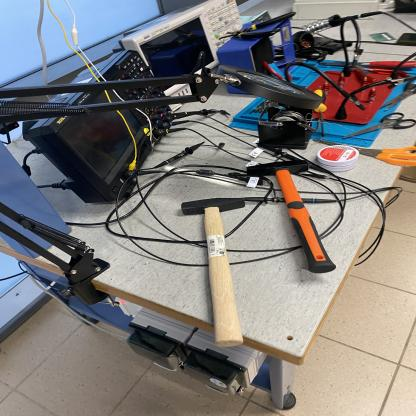Hammer: (245, 160, 338, 274), (181, 197, 247, 347)
Knife: (312, 58, 416, 68)
scissors: (311, 138, 416, 167), (342, 112, 416, 138)
